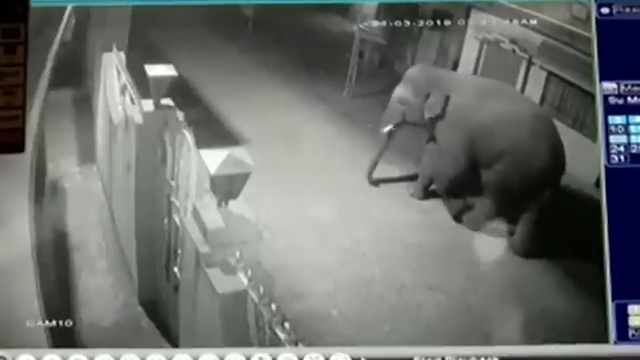Elephant: (366, 65, 566, 258)
